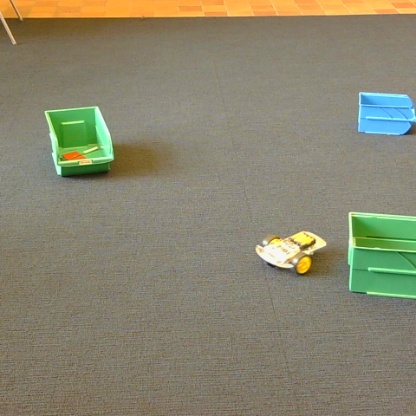robot: (256, 231, 326, 274)
